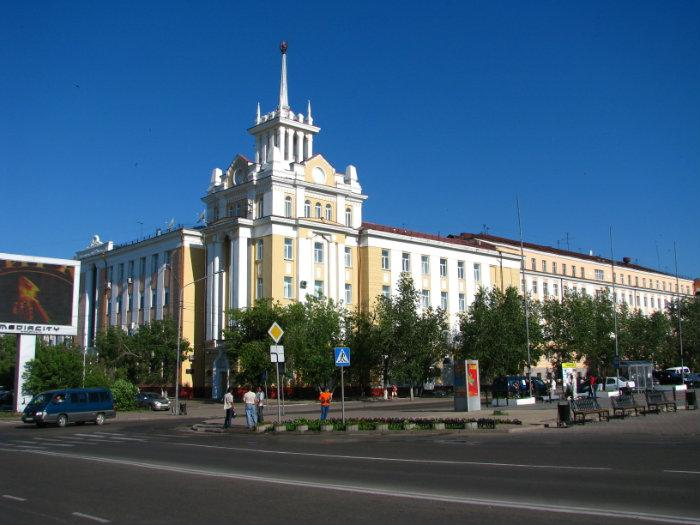sign: (266, 319, 286, 343), (333, 344, 353, 367)
